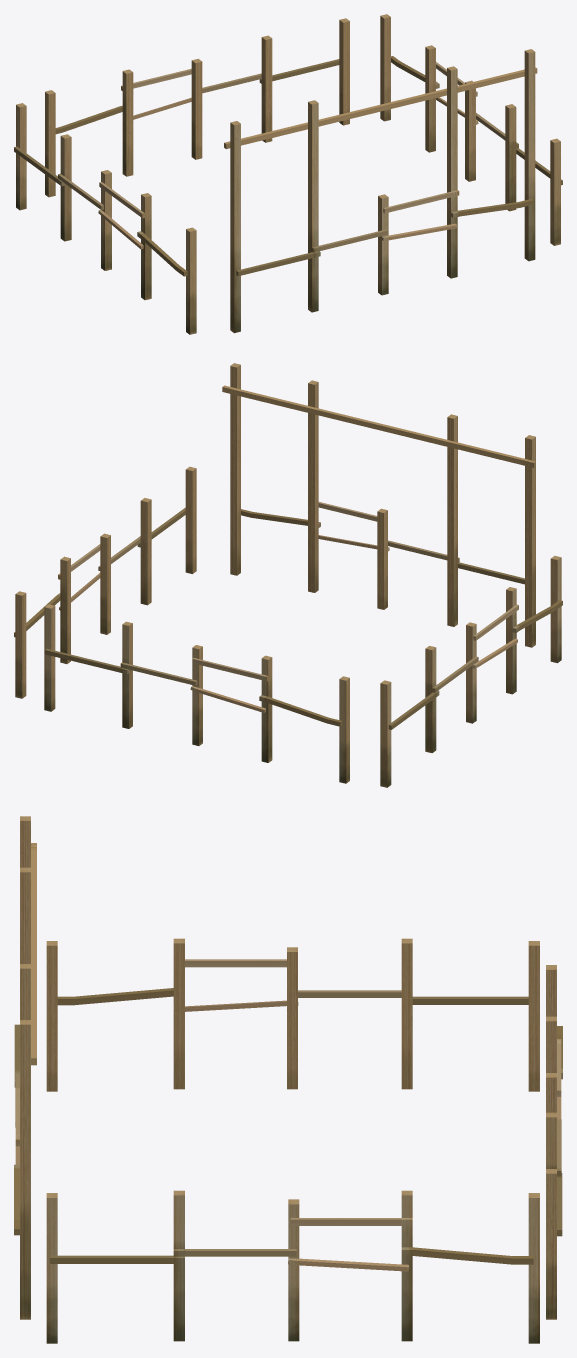
File: beams.fbx
The picture shows the model from 3 angles, top to bottom: view 1: azimuth 30°, elevation 25°; view 2: azimuth 150°, elevation 25°; view 3: azimuth 270°, elevation 25°; orthographic projection. The views are drawn at different scales.
Parts seen in each view (by area): view 1: pillars; view 2: pillars; view 3: pillars.
Boxes of the visible parts, x1,y1,x2,y2 form: pillars: (14,14,562,334); pillars: (14,363,562,787); pillars: (14,816,562,1343).
Size of the model in its own units: 478 by 253 by 423.
Materials: 1 (1 with a texture image).
